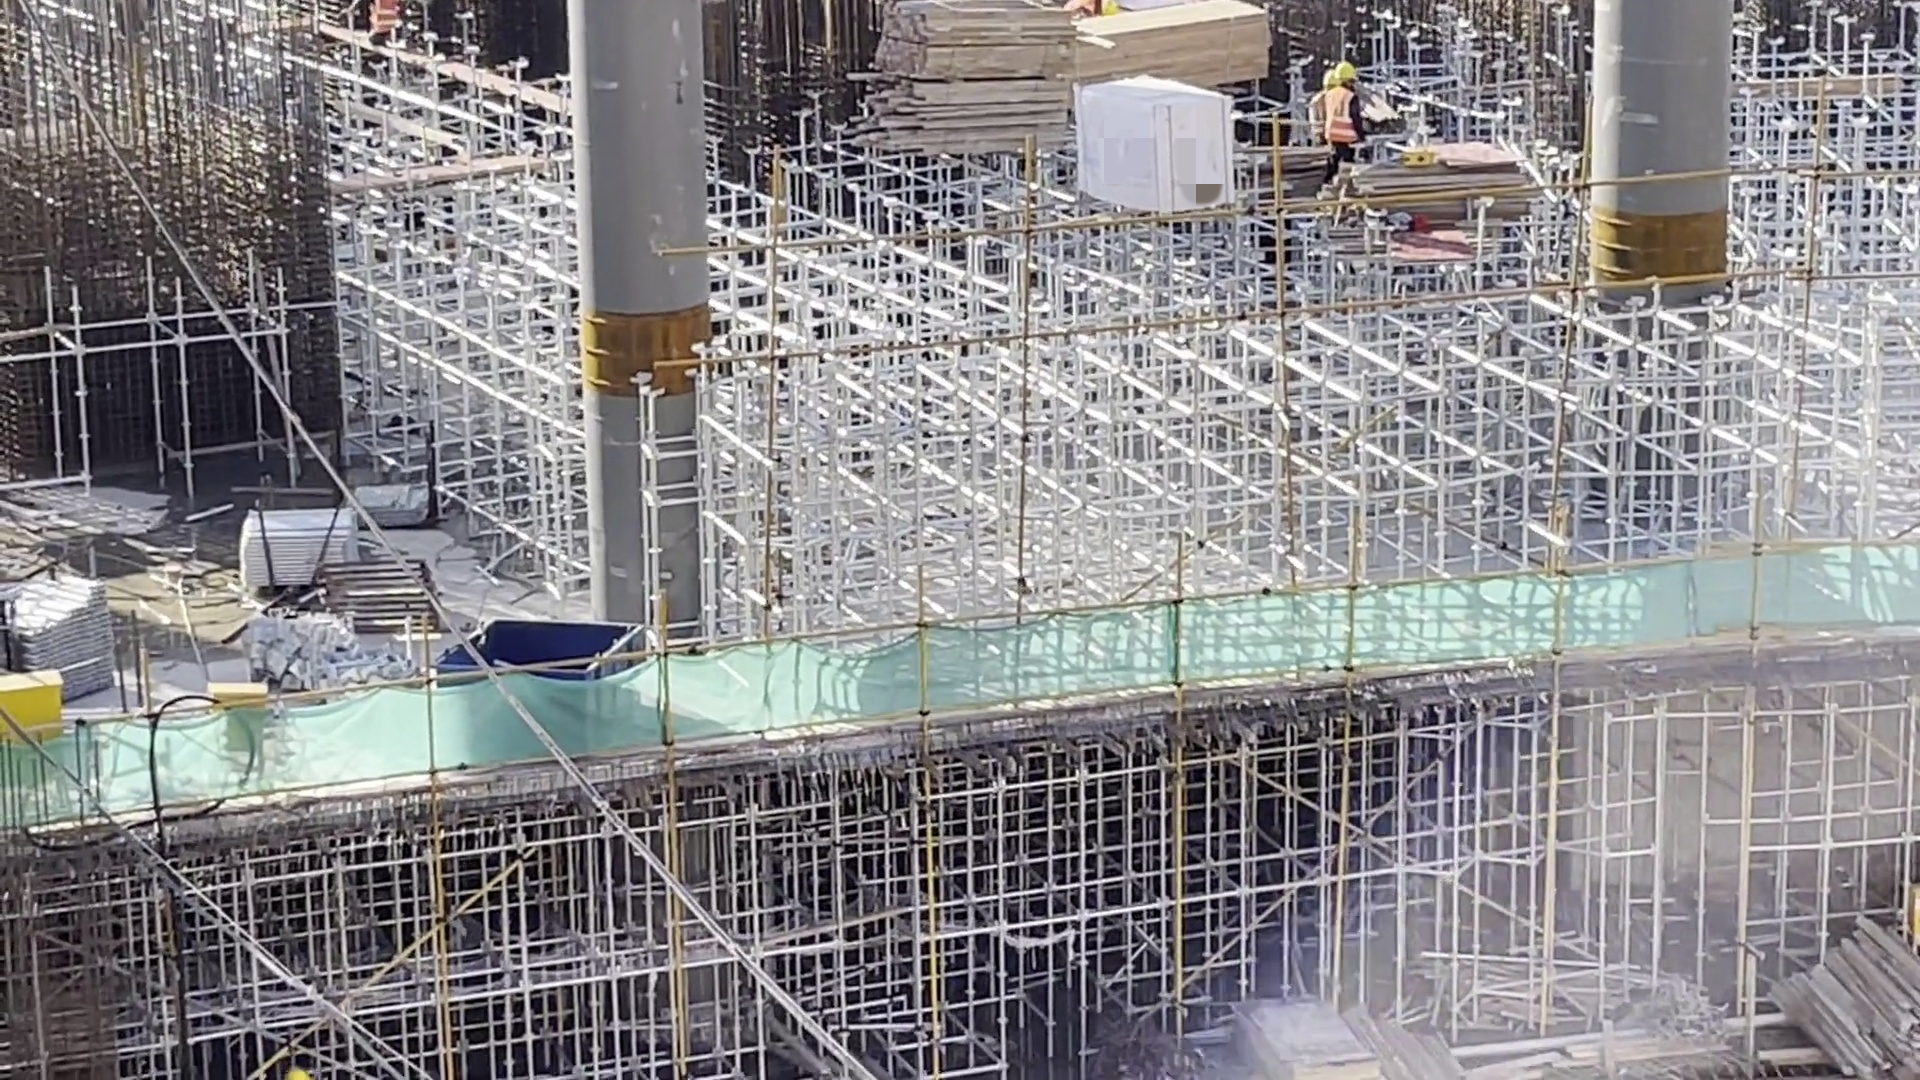board: (1229, 957, 1414, 1076), (1339, 142, 1543, 232)
ebox: (4, 672, 114, 782), (226, 674, 276, 764), (1893, 877, 1920, 936)
helmet: (1322, 65, 1338, 89), (1338, 62, 1357, 79), (1102, 1, 1118, 12)
hopper: (464, 617, 653, 757)
person: (1326, 61, 1371, 170), (1299, 66, 1334, 145), (368, 1, 396, 48)
scaffold: (239, 516, 384, 587), (33, 580, 116, 695)
vest: (1334, 91, 1366, 142), (1309, 95, 1326, 141), (369, 2, 396, 31), (1064, 1, 1090, 22)
wood: (914, 19, 1083, 121), (1080, 1, 1273, 87), (1798, 912, 1920, 1042)
